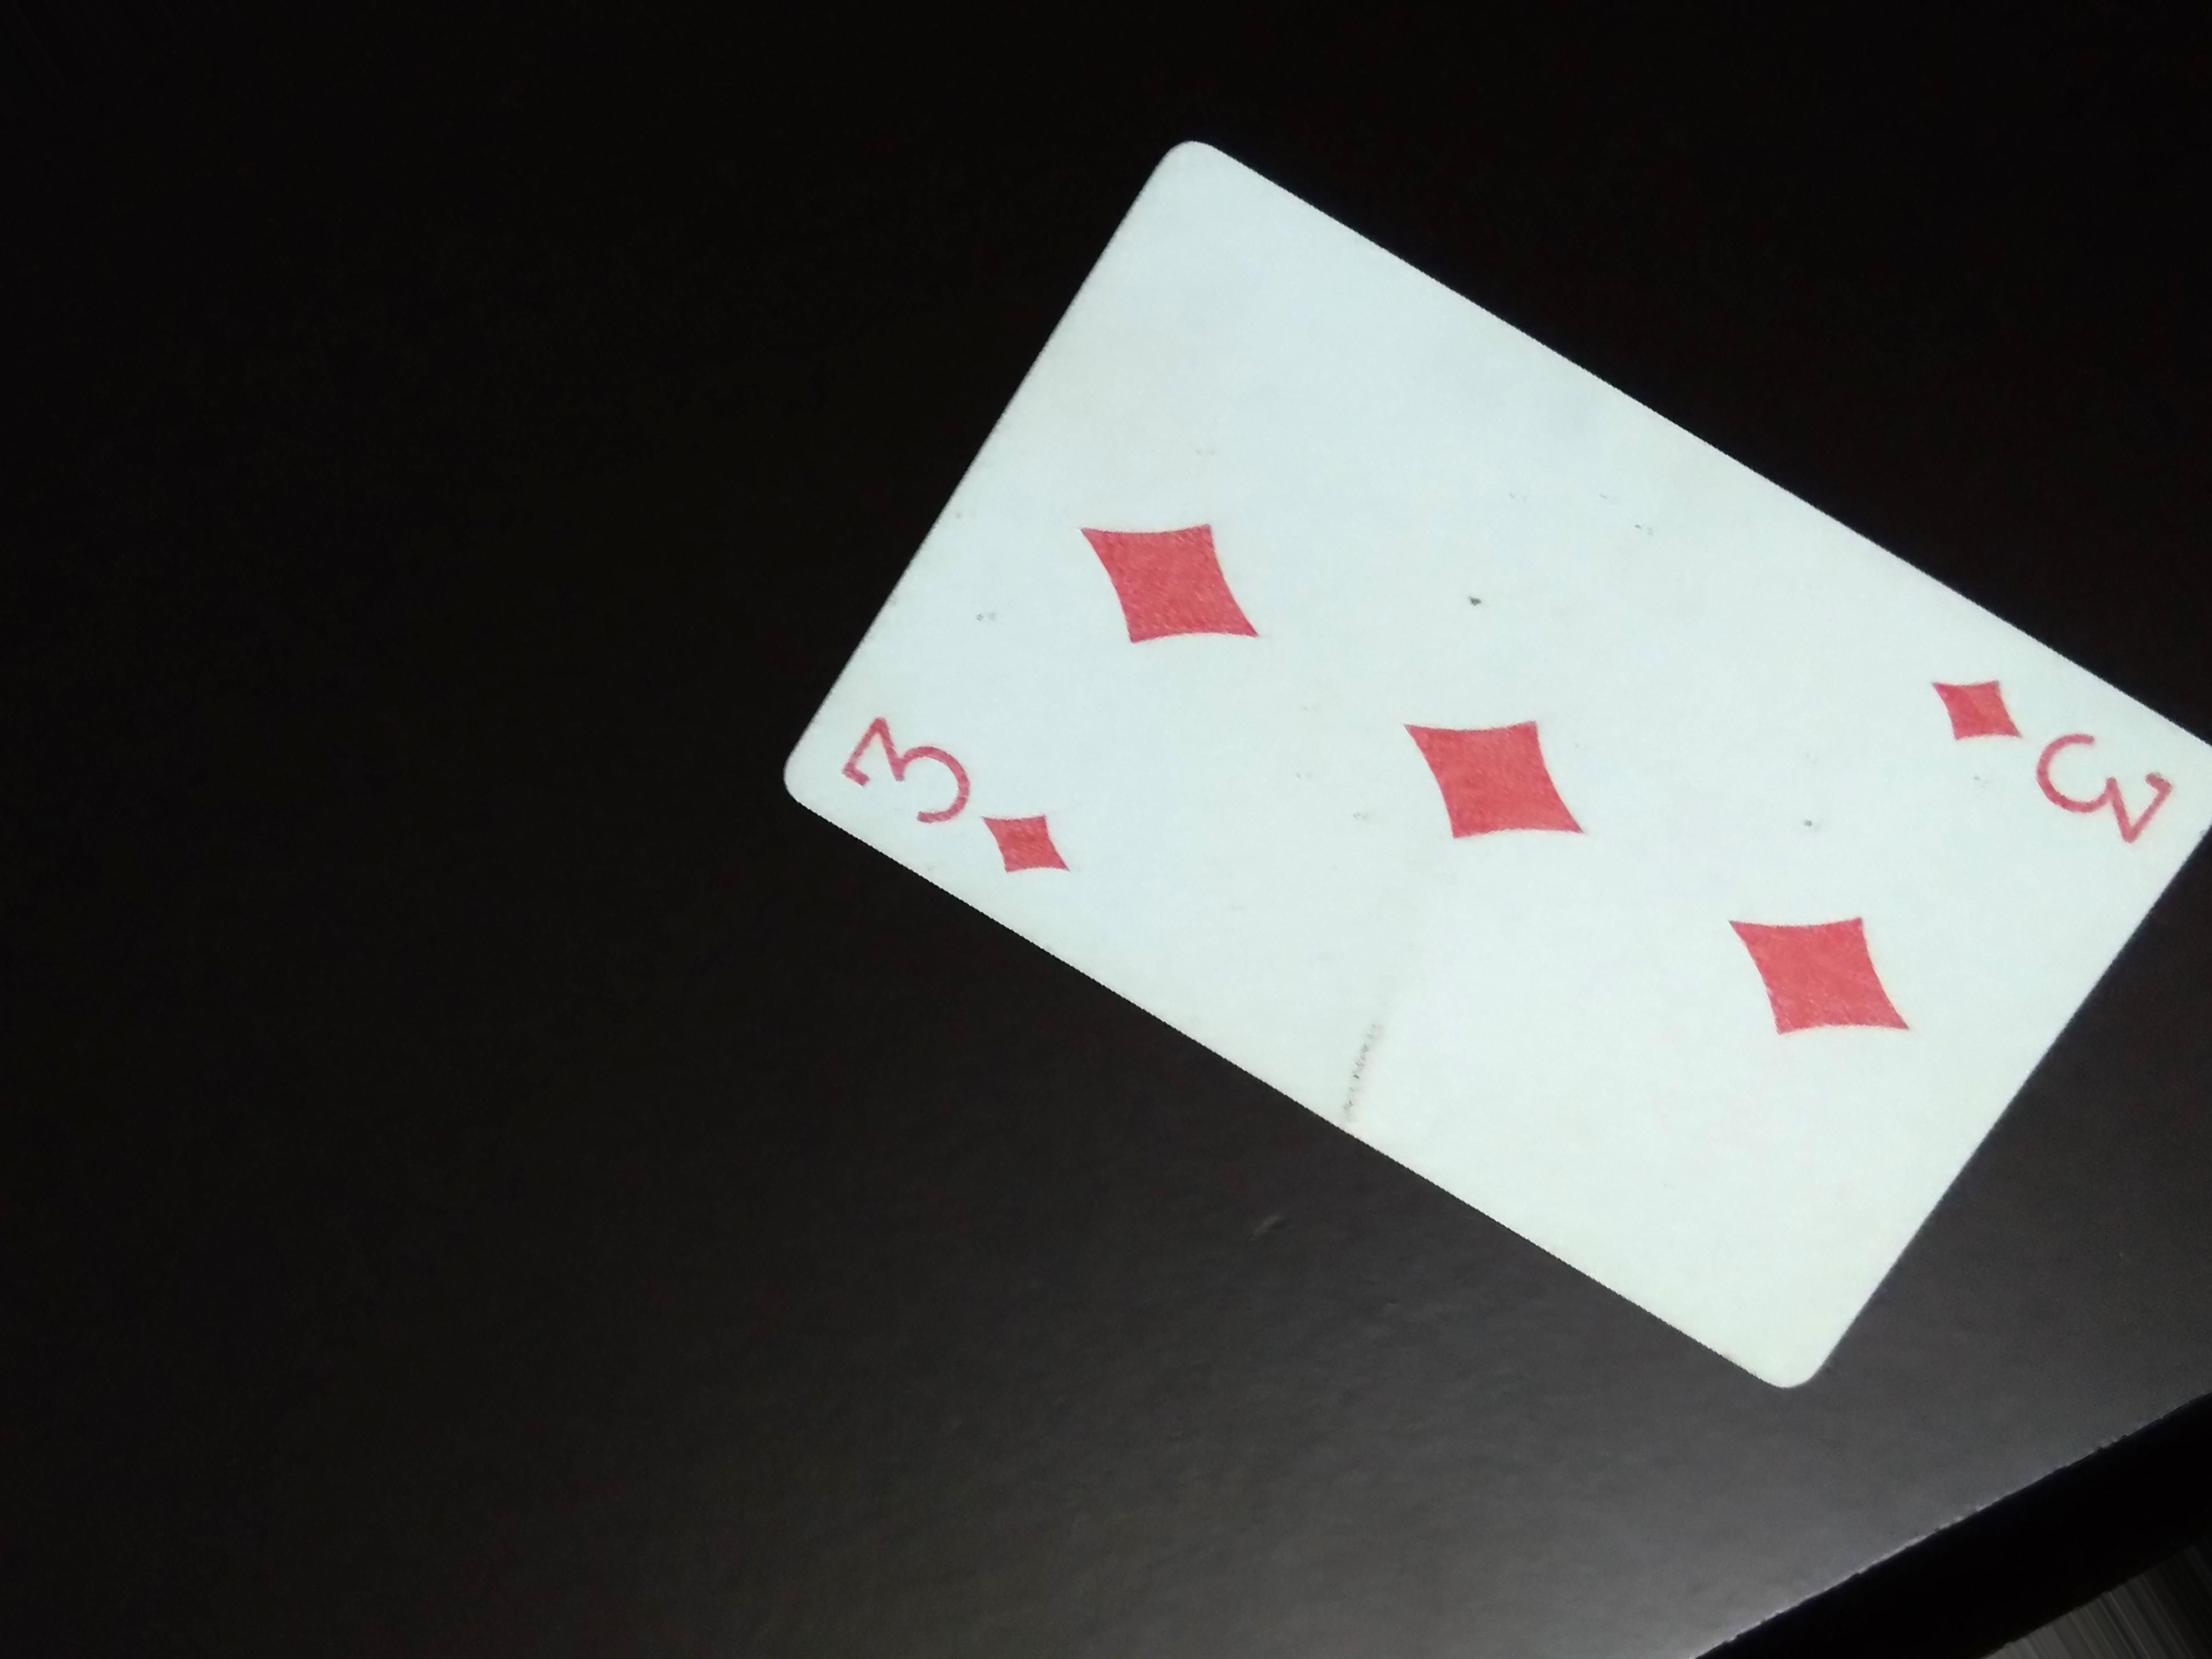3D: (824, 701, 1089, 908)
